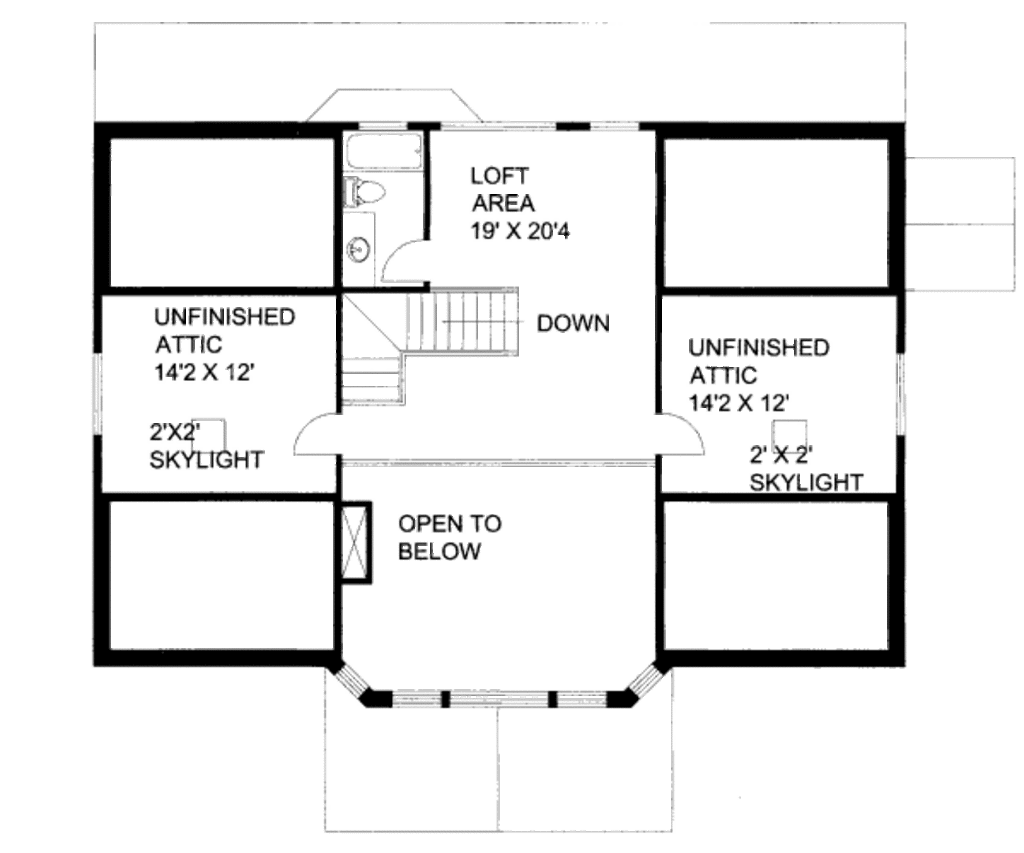door: (652, 407, 715, 458), (288, 409, 345, 462), (372, 241, 437, 286)
large_sink: (346, 174, 393, 210)
small_sink: (342, 221, 375, 279)
stairs: (336, 288, 527, 411)
tub: (344, 131, 434, 174)
window: (389, 686, 611, 719), (892, 353, 920, 438), (631, 653, 670, 707), (331, 657, 376, 703), (88, 348, 111, 432), (440, 121, 555, 137), (588, 117, 642, 136)
